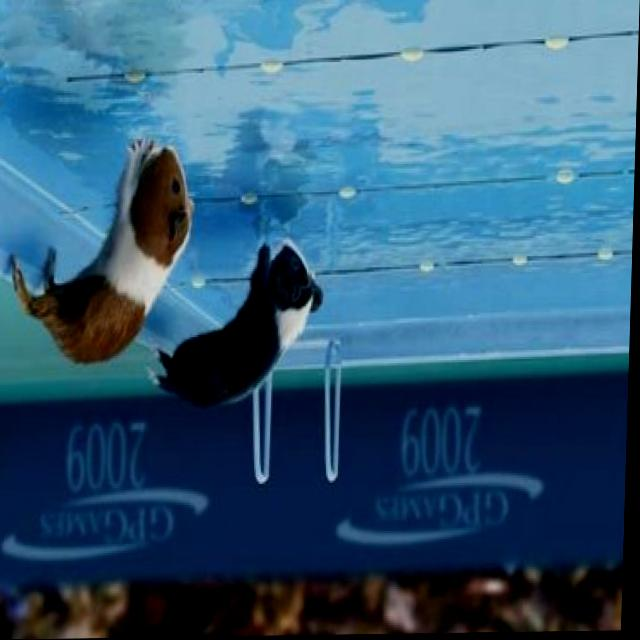guinea pig: (14, 138, 193, 364), (155, 237, 323, 412)
